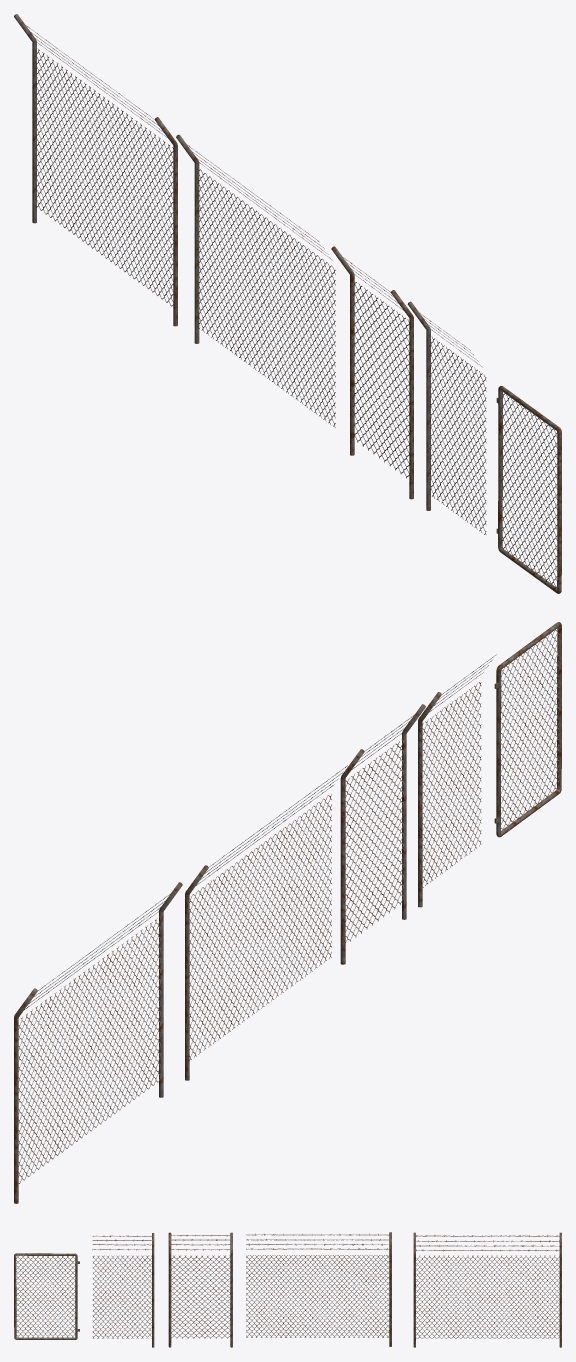
File: alambrado.glb
3 views of the same model, one above another, from view 1: azimuth 30°, elevation 25°; view 2: azimuth 150°, elevation 25°; view 3: azimuth 270°, elevation 25° (orthographic). The views are drawn at different scales.
Visible parts, largest first — view 1: Cube.002_0, Cylinder.007_4, Cube.008_3, Cube.005_1, Cube.007_2; view 2: Cube.002_0, Cylinder.007_4, Cube.005_1, Cube.008_3, Cube.007_2; view 3: Cube.002_0, Cylinder.007_4, Cube.005_1, Cube.008_3, Cube.007_2.
Boxes of the visible parts, left/top/right/bottom form: Cube.002_0: left=14, top=14, right=177, bottom=326; Cylinder.007_4: left=176, top=134, right=335, bottom=427; Cube.008_3: left=496, top=386, right=561, bottom=593; Cube.005_1: left=331, top=246, right=413, bottom=499; Cube.007_2: left=407, top=301, right=486, bottom=534; Cube.002_0: left=14, top=882, right=182, bottom=1203; Cylinder.007_4: left=185, top=765, right=347, bottom=1080; Cube.005_1: left=340, top=704, right=425, bottom=964; Cube.008_3: left=494, top=622, right=561, bottom=837; Cube.007_2: left=418, top=654, right=496, bottom=907; Cube.002_0: left=413, top=1232, right=561, bottom=1347; Cylinder.007_4: left=246, top=1232, right=391, bottom=1346; Cube.005_1: left=168, top=1232, right=232, bottom=1347; Cube.008_3: left=14, top=1253, right=79, bottom=1339; Cube.007_2: left=92, top=1233, right=154, bottom=1347.
Bounding box in the file's own units: 0.8553 × 6.9 × 31.15.
Materials: 1 (1 with a texture image).
